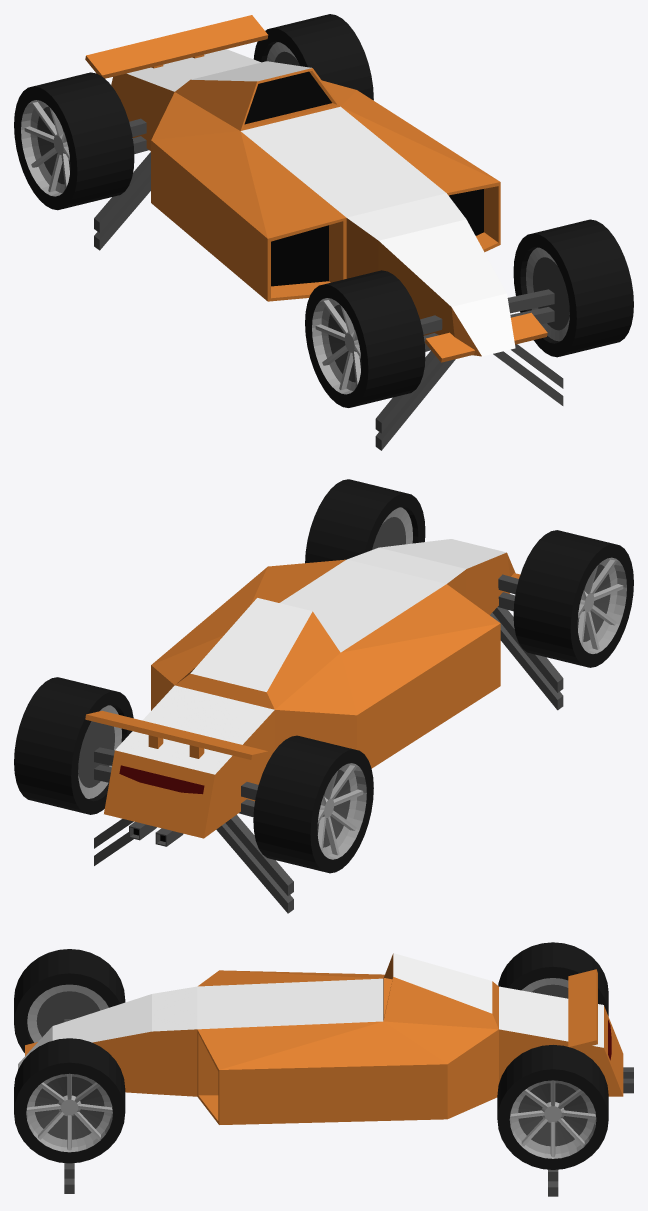
File: car.glb
The picture shows the model from 3 angles, top to bottom: view 1: azimuth 30°, elevation 25°; view 2: azimuth 150°, elevation 25°; view 3: azimuth 270°, elevation 25°; orthographic projection. The views are drawn at different scales.
Visible parts, largest first — view 1: Body, WheelBR, WheelFR, WheelFL, WheelBL, SuspensionFR, SuspensionBR, Suspension, SuspensionFL; view 2: Body, WheelBR, WheelFR, WheelBL, WheelFL, SuspensionBR, SuspensionFR, Suspension, SuspensionBL; view 3: Body, WheelBL, WheelFL, WheelFR, WheelBR.
Boxes of the visible parts, left/top/right/bottom form: Body: left=85, top=15, right=547, bottom=362; WheelBR: left=14, top=72, right=134, bottom=210; WheelFR: left=305, top=270, right=425, bottom=407; WheelFL: left=513, top=219, right=633, bottom=357; WheelBL: left=253, top=14, right=373, bottom=100; SuspensionFR: left=375, top=350, right=455, bottom=450; SuspensionBR: left=94, top=152, right=150, bottom=250; Suspension: left=129, top=118, right=554, bottom=351; SuspensionFL: left=493, top=344, right=563, bottom=405; Body: left=85, top=539, right=520, bottom=846; WheelBR: left=253, top=735, right=373, bottom=873; WheelFR: left=513, top=530, right=633, bottom=667; WheelBL: left=14, top=677, right=133, bottom=814; WheelFL: left=305, top=479, right=425, bottom=563; SuspensionBR: left=216, top=814, right=293, bottom=913; SuspensionFR: left=490, top=607, right=563, bottom=710; Suspension: left=94, top=574, right=518, bottom=817; SuspensionBL: left=94, top=819, right=133, bottom=865; Body: left=18, top=953, right=633, bottom=1124; WheelBL: left=497, top=1045, right=608, bottom=1169; WheelFL: left=14, top=1038, right=125, bottom=1163; WheelFR: left=14, top=949, right=125, bottom=1052; WheelBR: left=498, top=942, right=608, bottom=1016.
Size of what is drawn, in the model's own units: 1.79 by 1.25 by 3.69.
